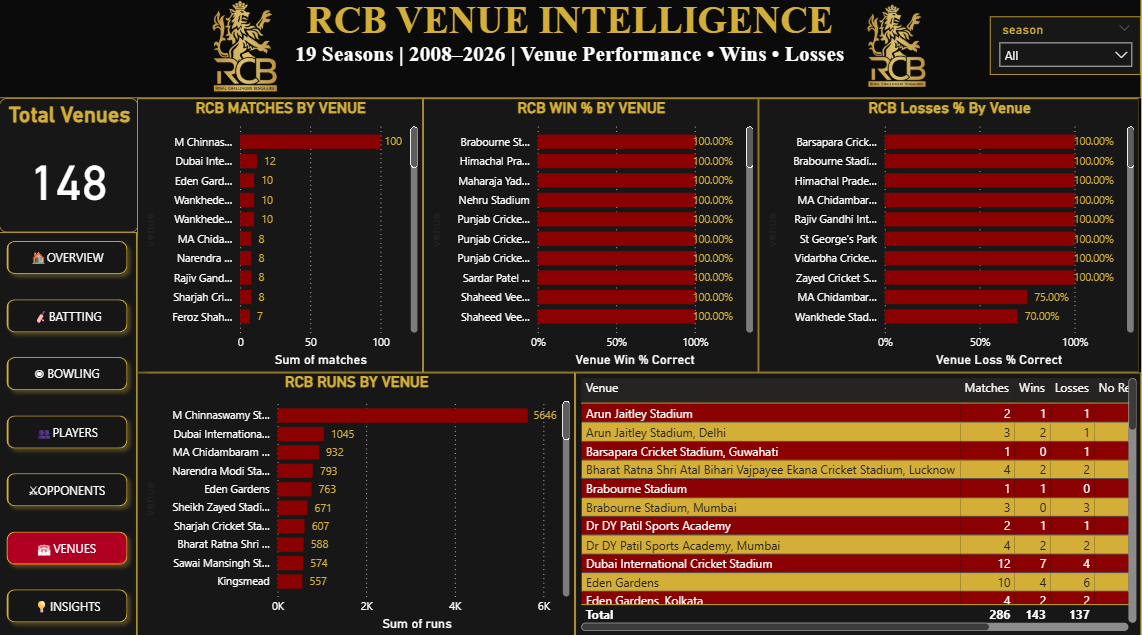

The page's visual inventory and layout, read from the dashboard file:
{"tool":"powerbi","page":{"name":"🏟 VENUES","canvas":[1280,720],"ordinal":5},"visuals":[{"type":"textbox","box":[0,0,1280.5,117.9],"z":0},{"type":"slicer","fields":{"Values":["rcb_season_summary.season"]},"box":[1110.3,26.2,170.3,65.5],"z":1000},{"type":"card","title":"Total Venues","fields":{"Values":["rcb_venue_season_master.Venue Season Count"]},"box":[1.5,117.9,155.7,149.9],"z":2000},{"type":"clusteredBarChart","title":"RCB MATCHES BY VENUE","fields":{"Category":["rcb_venue_season_master.venue"],"Y":["Sum(rcb_venue_season_master.matches)"]},"box":[155.7,117.9,320.1,307],"z":3000},{"type":"clusteredBarChart","title":"RCB WIN % BY VENUE","fields":{"Category":["rcb_venue_season_master.venue"],"Y":["rcb_venue_season_master.Venue Win % Correct"]},"box":[475.8,117.9,375.4,307],"z":4000},{"type":"clusteredBarChart","title":"RCB RUNS BY VENUE","fields":{"Category":["rcb_venue_season_master.venue"],"Y":["Sum(rcb_venue_season_master.runs)"]},"box":[155.7,424.9,490.4,295.4],"z":5000},{"type":"tableEx","fields":{"Values":["rcb_venue_season_master.venue","Sum(rcb_venue_season_master.matches)","Sum(rcb_venue_season_master.wins)","Sum(rcb_venue_season_master.losses)","Sum(rcb_venue_season_master.no_results)","Sum(rcb_venue_season_master.runs)","rcb_venue_season_master.Venue Win % Correct","rcb_venue_season_master.Venue Loss % Correct"]},"box":[646.1,424.9,634.4,295.4],"z":6000},{"type":"clusteredBarChart","title":"RCB Losses % By Venue","fields":{"Category":["rcb_venue_season_master.venue"],"Y":["rcb_venue_season_master.Venue Loss % Correct"]},"box":[851.3,117.9,426.4,307],"z":7000},{"type":"pageNavigator","box":[0,267.7,155.7,452.5],"z":8000},{"type":"image","box":[168.8,0,215.4,117.9],"z":9000},{"type":"image","box":[922.6,0,165.9,117.9],"z":10000}]}

Visuals, with their boxes in screenshot pixels (x1, y1, x2, y2), scaled from the page's 1280x720 canvas onto the 1142x635 screenshot:
textbox: crop(0, 0, 1141, 104)
slicer - rcb_season_summary.season: crop(991, 23, 1141, 81)
"Total Venues" card: crop(1, 104, 140, 236)
"RCB MATCHES BY VENUE" clusteredBarChart: crop(139, 104, 425, 375)
"RCB WIN % BY VENUE" clusteredBarChart: crop(425, 104, 759, 375)
"RCB RUNS BY VENUE" clusteredBarChart: crop(139, 375, 576, 634)
tableEx - rcb_venue_season_master.venue x Sum(rcb_venue_season_master.matches): crop(576, 375, 1141, 634)
"RCB Losses % By Venue" clusteredBarChart: crop(760, 104, 1140, 375)
pageNavigator: crop(0, 236, 139, 634)
image: crop(151, 0, 343, 104)
image: crop(823, 0, 971, 104)
